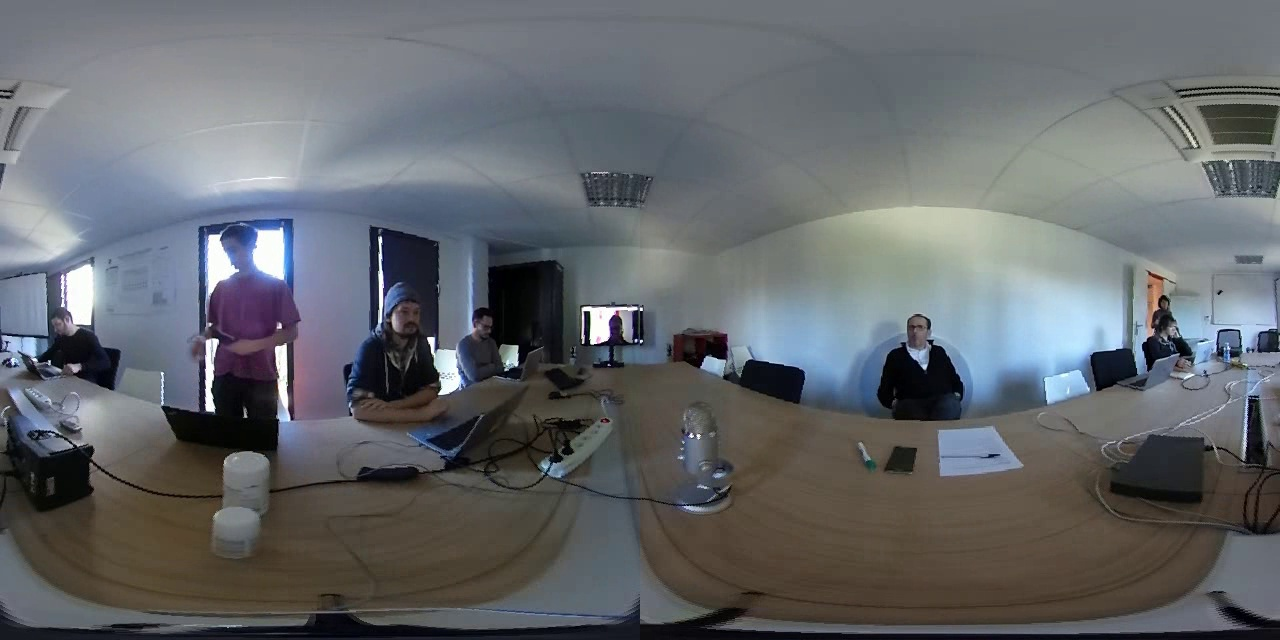person: (182, 210, 298, 419), (335, 265, 447, 421), (876, 303, 976, 422), (29, 301, 114, 391), (455, 288, 517, 371), (1149, 310, 1188, 362), (583, 304, 634, 343), (1140, 277, 1180, 312)
